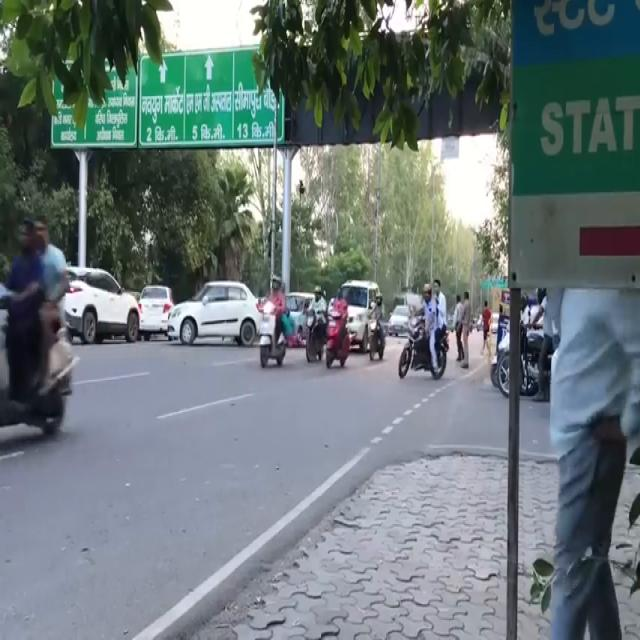MOTORCYCLE: (396, 315, 448, 382), (256, 304, 287, 366), (326, 315, 351, 369), (365, 317, 387, 359)
